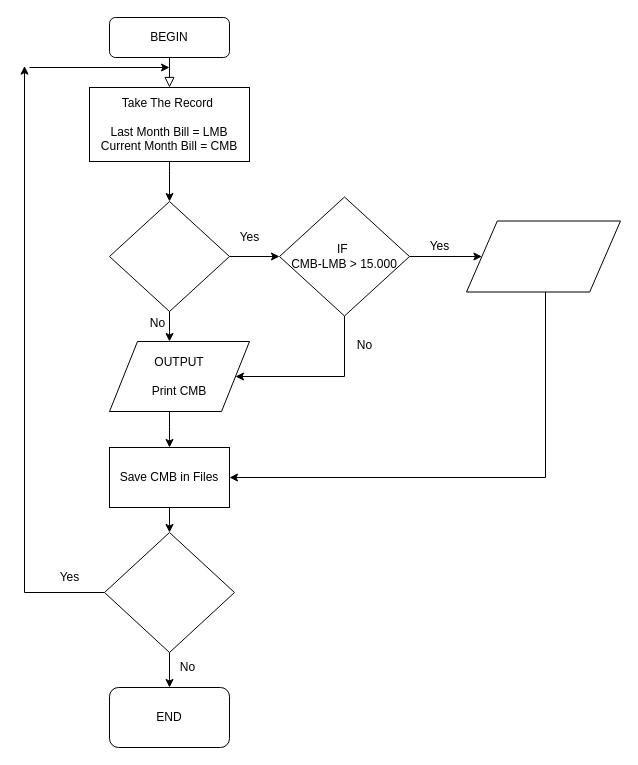
Some shapes in this 638 by 765 pixel diagram are drawn without their labels. The shapes that lost their labels are listed below. From the top down, each one's centre as x and y in pixels, then its label:
the point at 169,256: IF LMB >=10.000$
the point at 543,256: OUTPUT Print CMB and Voucher for 500$
the point at 169,592: IF we have costumer
